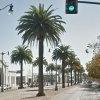Traffic light: (59, 1, 84, 22)
